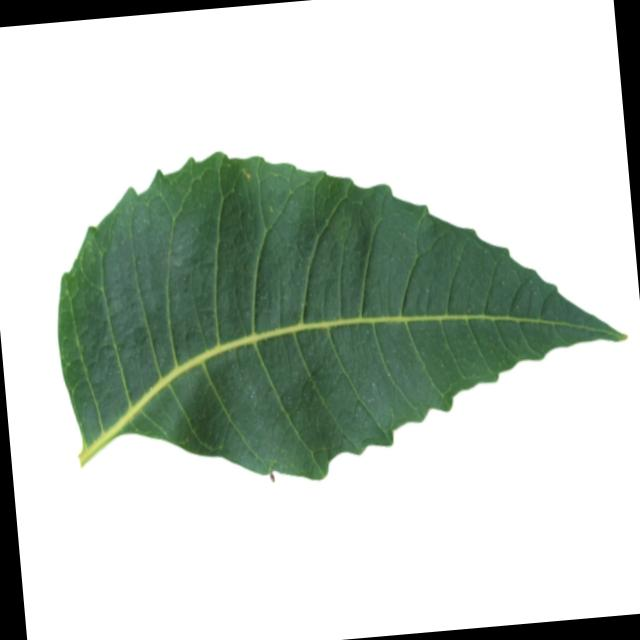Medicinal-Neem: (38, 116, 638, 504)
